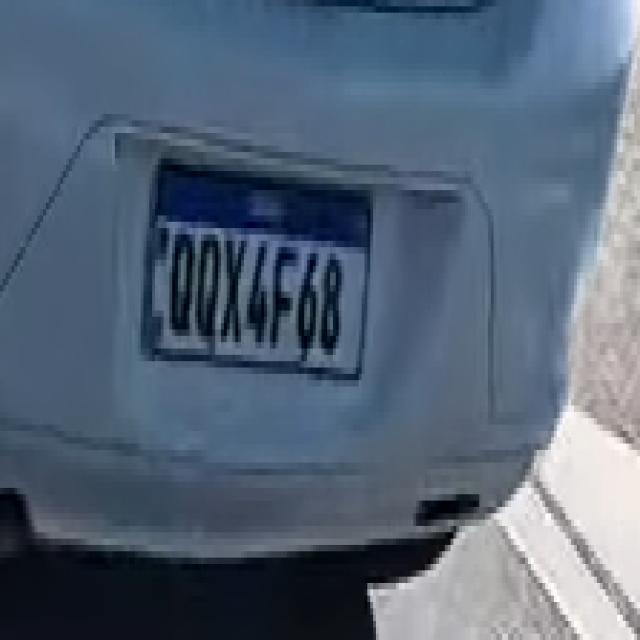Placa_mercosul_carro: (141, 153, 374, 382)
